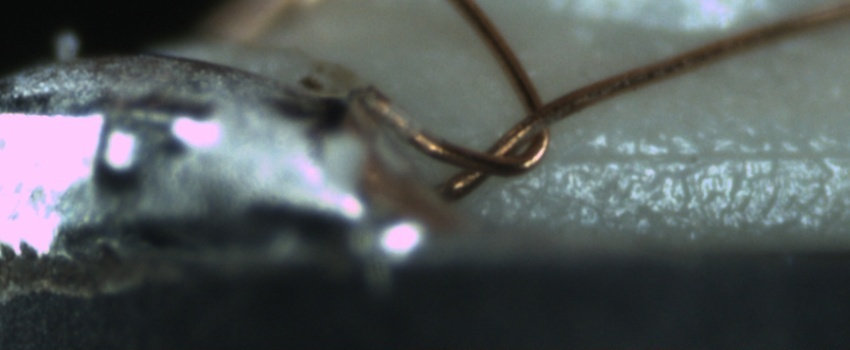DL: (560, 124, 850, 188)
